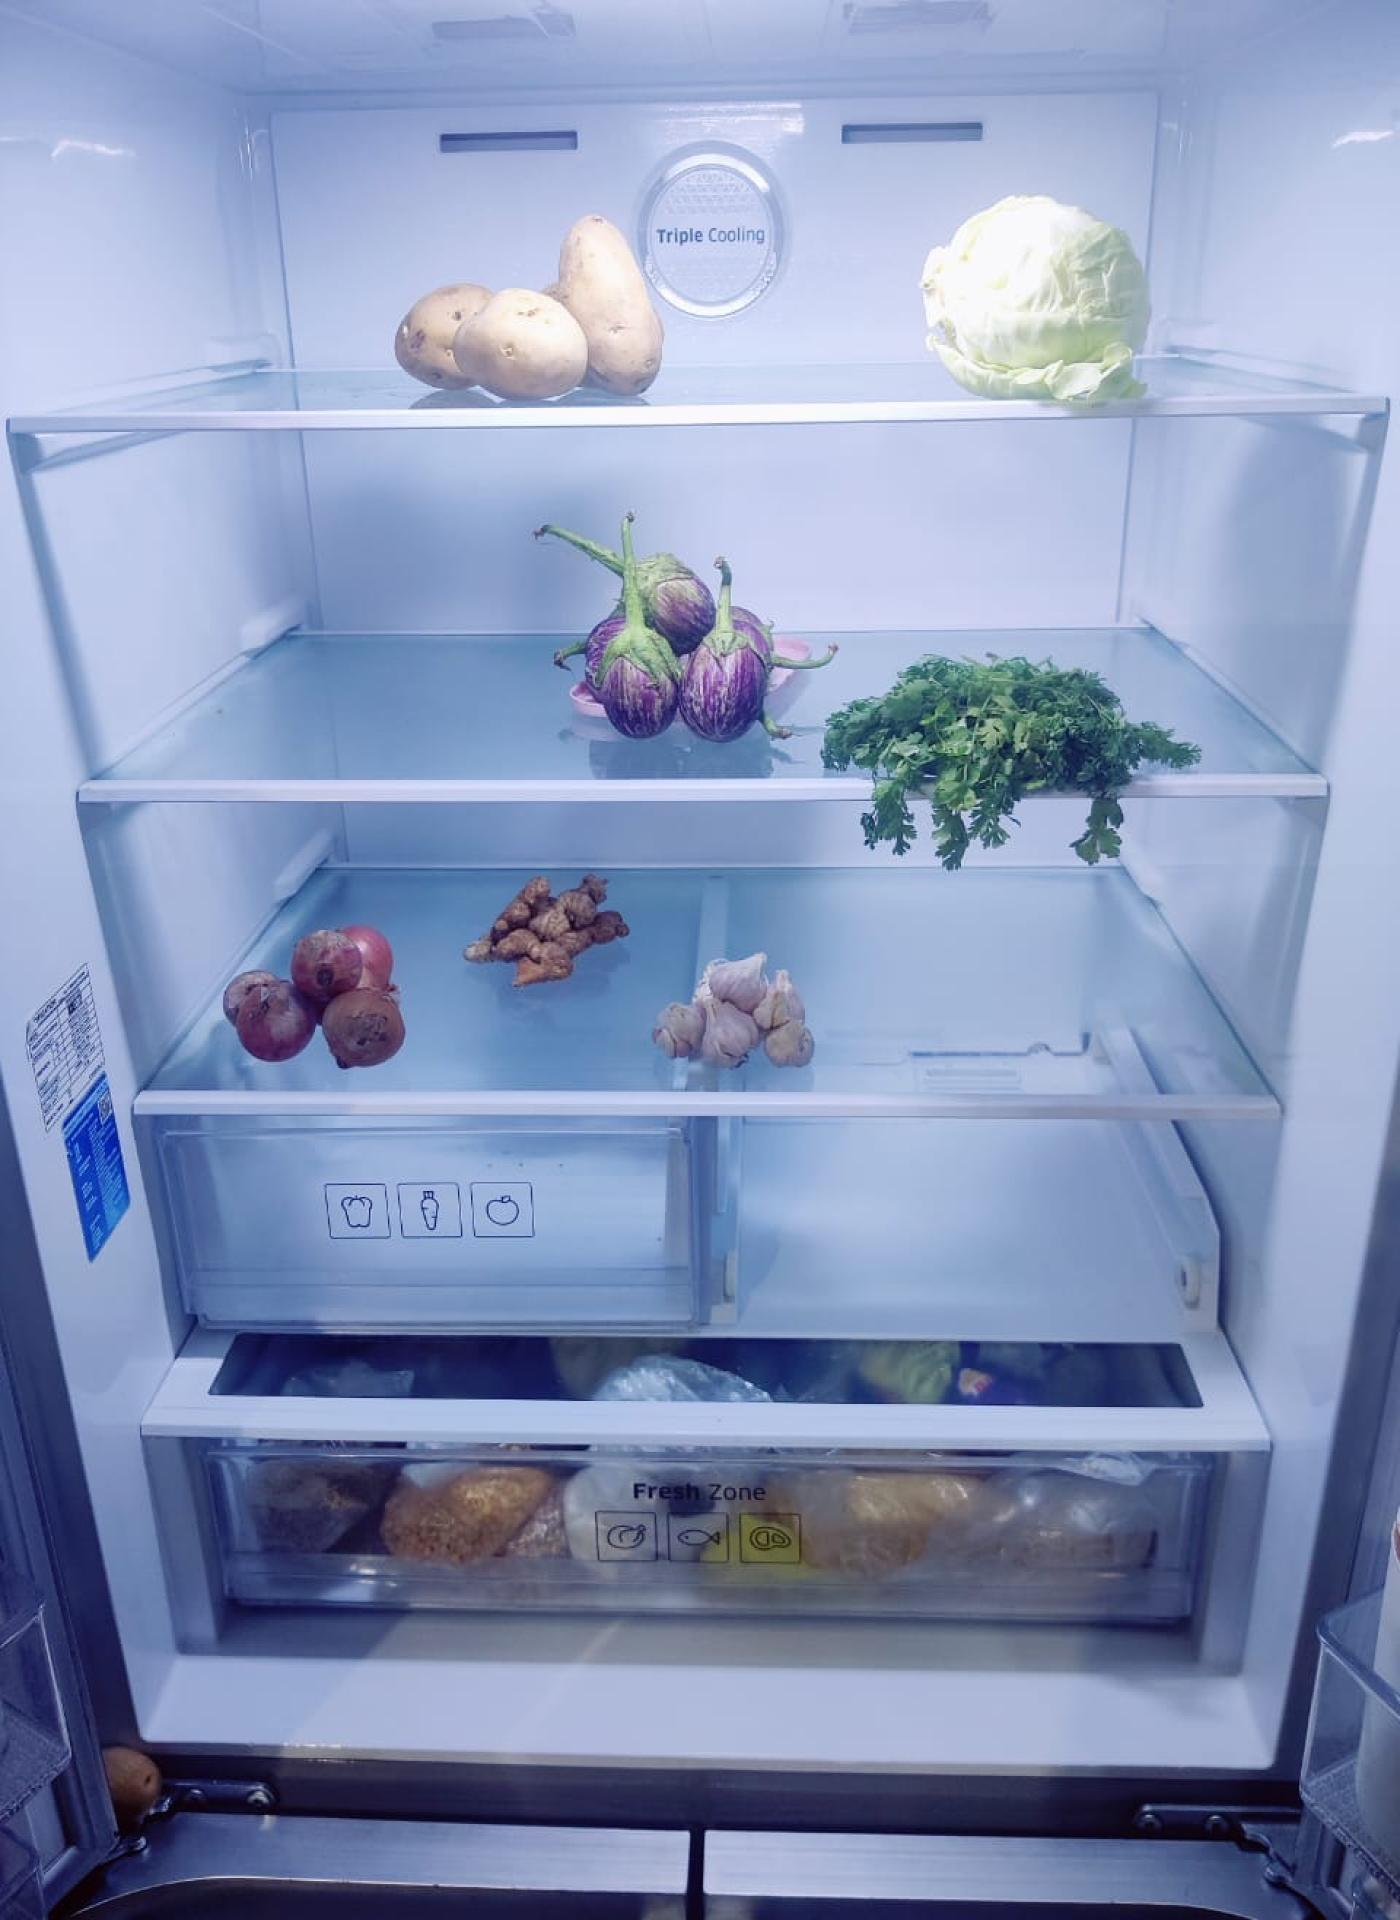brinjal: (592, 553, 780, 738)
cabbage: (927, 192, 1157, 391)
coriander: (832, 660, 1187, 838)
garlic: (656, 954, 816, 1078)
ginger: (474, 874, 631, 988)
onion: (224, 918, 407, 1064)
potato: (394, 222, 660, 401)
